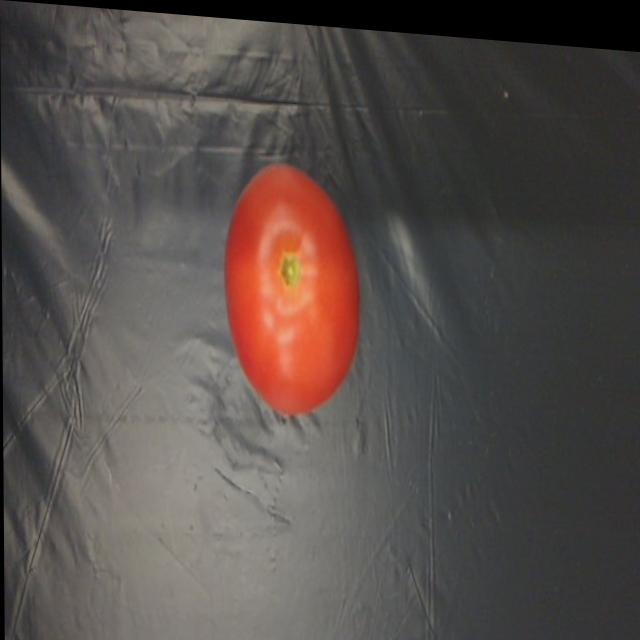kirmizi: (183, 135, 384, 417)
